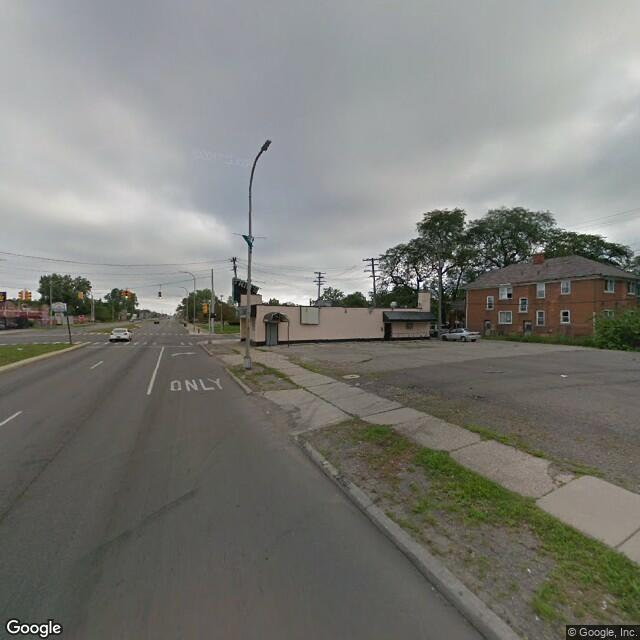litter: (524, 567, 532, 575), (262, 407, 271, 414), (562, 373, 570, 379)
